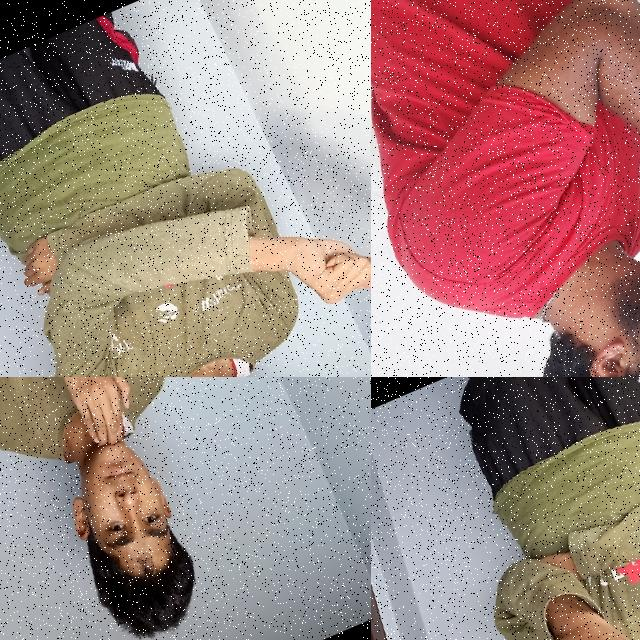Chin Flick: (0, 377, 247, 640), (505, 155, 640, 377)
Corna: (503, 588, 640, 640)
Dulya: (275, 197, 371, 323)
